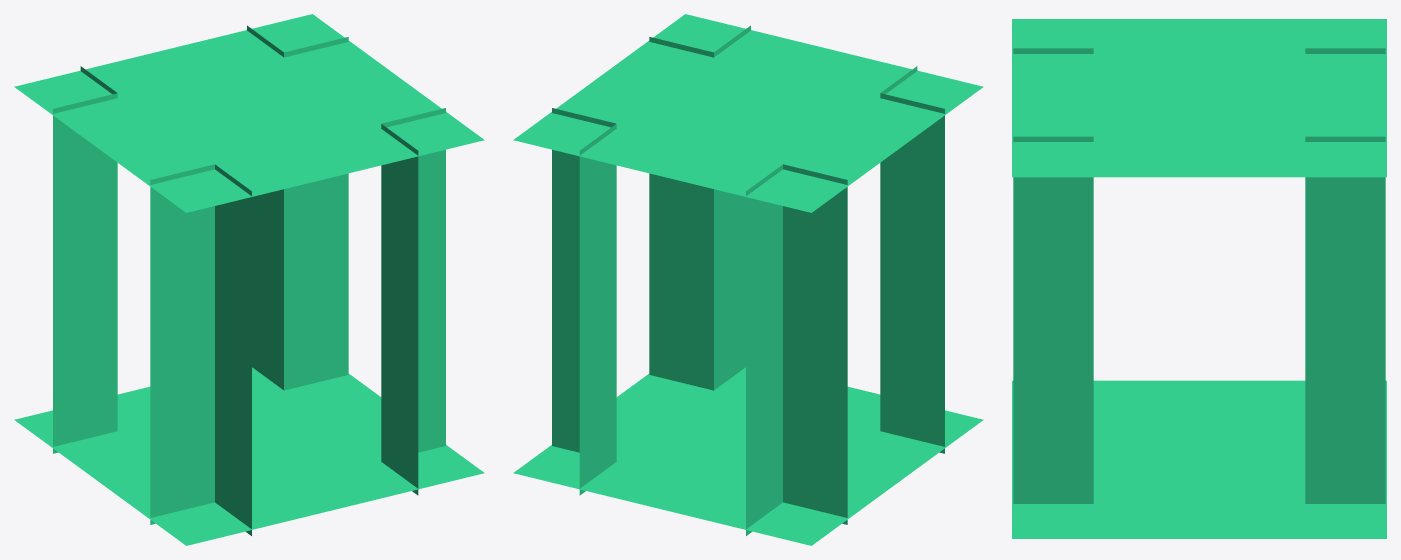
The model's file is ColDuctTallIntersection.fbx.
3 renders of one model, left to right at view 1: azimuth 30°, elevation 25°; view 2: azimuth 150°, elevation 25°; view 3: azimuth 270°, elevation 25°, orthographic. The views are drawn at different scales.
Parts seen in each view (by area): view 1: ColDuctIntersection.001; view 2: ColDuctIntersection.001; view 3: ColDuctIntersection.001.
Part boxes in pixels (bbox=[...]): ColDuctIntersection.001: bbox=[14, 14, 484, 545]; ColDuctIntersection.001: bbox=[513, 14, 983, 545]; ColDuctIntersection.001: bbox=[1012, 19, 1386, 538].
Bounding box in the file's own units: 200 × 221 × 200.
